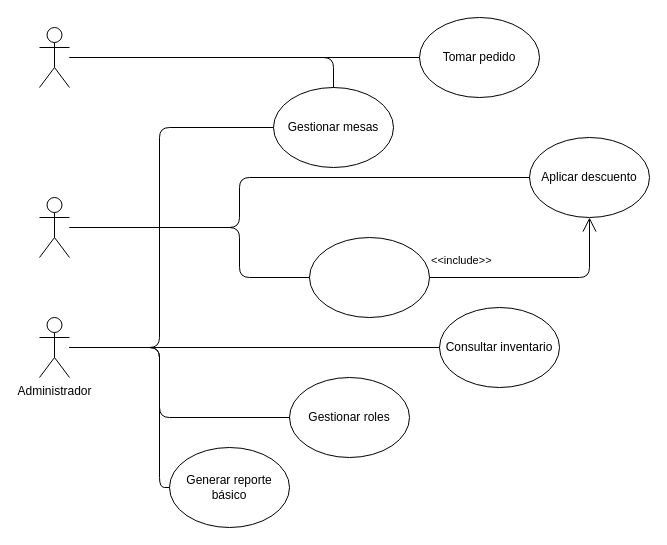
This 667x545 diagram has some shape labels left out. The box of each missing label's shape, as (x1, y1, x2, y2) in pixels:
Cajero: (38, 196, 70, 258)
Mesero: (38, 26, 70, 88)
Registrar venta: (308, 236, 430, 318)
